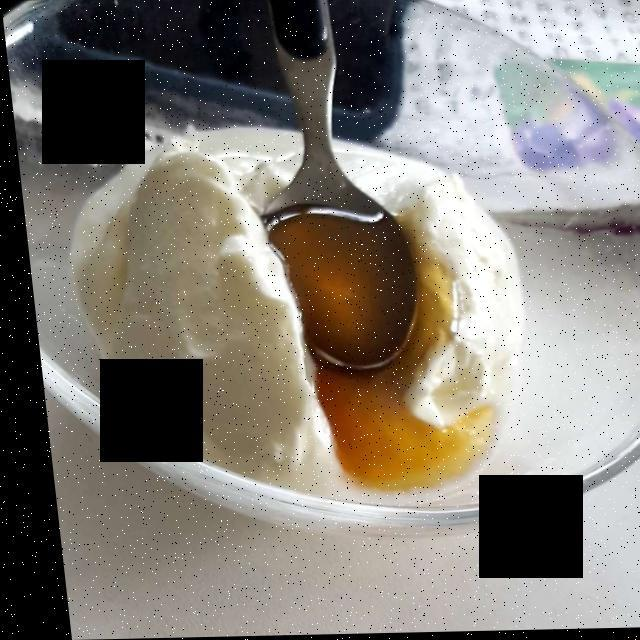curds: (67, 126, 505, 491)
honey: (242, 215, 441, 457)
